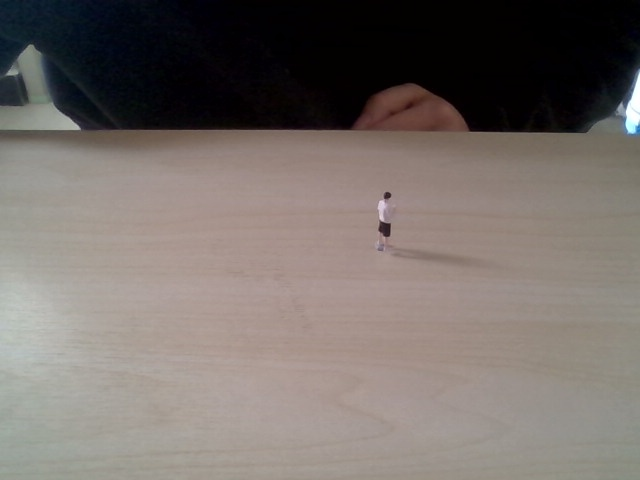walk: (373, 189, 399, 256)
